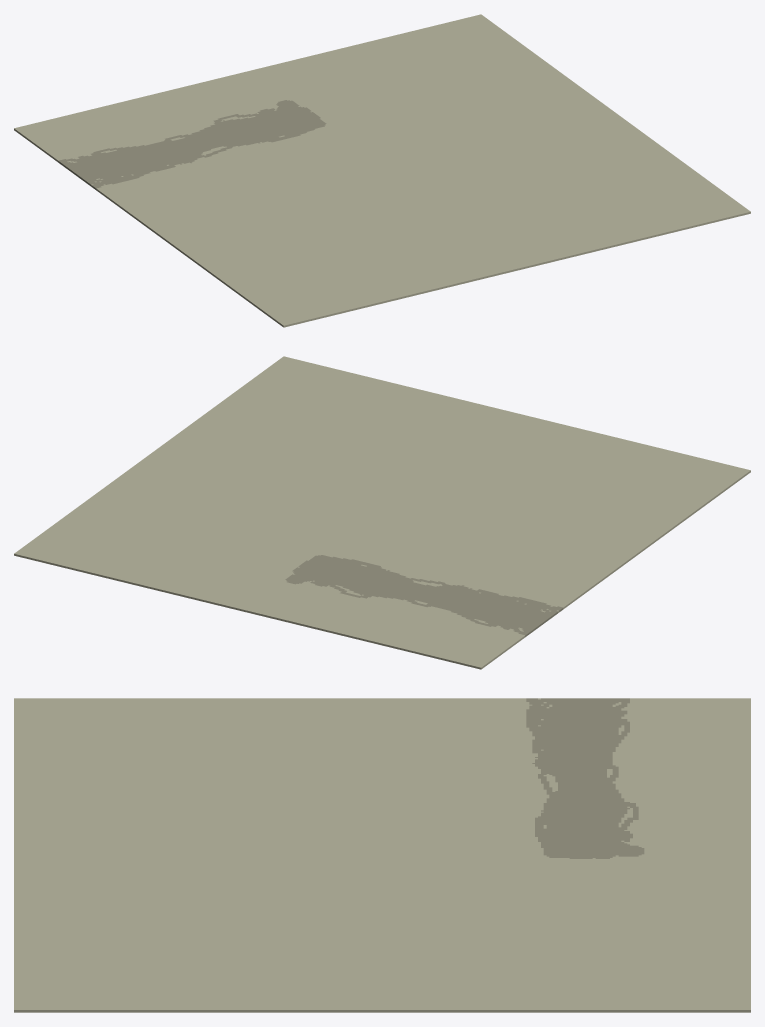
File: forest1.3-6.obj
The picture shows the model from 3 angles, top to bottom: view 1: azimuth 30°, elevation 25°; view 2: azimuth 150°, elevation 25°; view 3: azimuth 270°, elevation 25°; orthographic projection. The views are drawn at different scales.
Bounding box in the file's own units: 25.6 × 0.1 × 25.6.
Materials: 1 (1 with a texture image).
